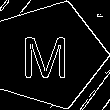M_N: (25, 30, 73, 80)
